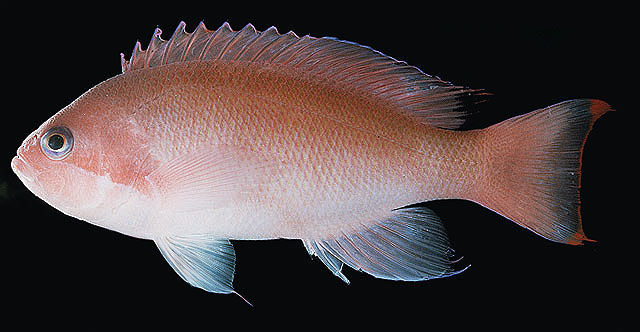fish: (10, 19, 612, 307)
